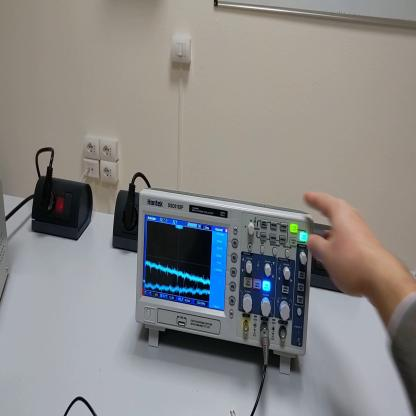hand: (302, 190, 380, 300)
oscilloscope: (136, 189, 314, 376)
power supply: (2, 180, 13, 315)
socket: (31, 175, 94, 241), (114, 188, 140, 251)
